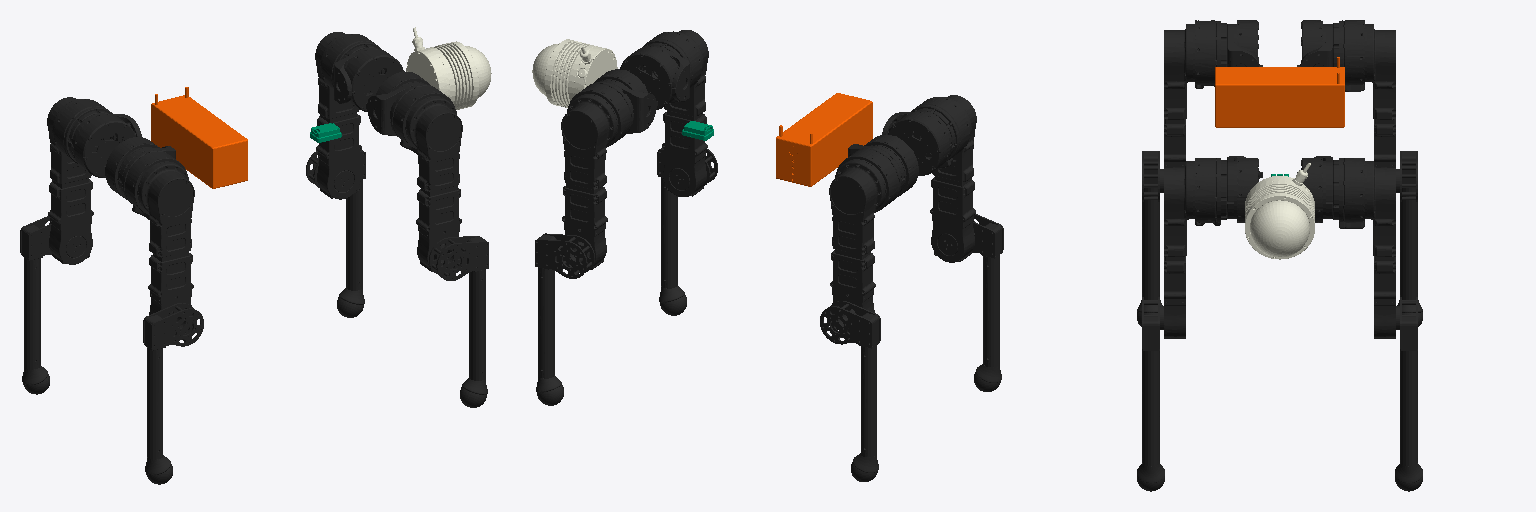
--- Facts derived from the render (not from the file) ---
The picture shows the robot from 3 angles, left to right: view 1: azimuth 30°, elevation 25°; view 2: azimuth 150°, elevation 25°; view 3: azimuth 270°, elevation 25°; orthographic projection.
Model robot with 29 links and 28 joints (12 revolute, 16 fixed), rooted at base, posed all joints at 0.
Visible links, largest first — view 1: RF_THIGH, RH_THIGH, LH_THIGH, battery, LF_THIGH, BP_lidar, LF_HIP, LH_HIP, RF_FOOT, LH_FOOT, RH_FOOT, LF_FOOT (+5 smaller); view 2: LF_THIGH, LH_THIGH, RH_THIGH, battery, RF_THIGH, BP_lidar, RF_HIP, RH_HIP, LF_FOOT, RH_FOOT, LH_FOOT, RF_FOOT (+5 smaller); view 3: battery, LF_THIGH, RF_THIGH, LH_THIGH, RH_THIGH, BP_lidar, LF_FOOT, RF_FOOT, LH_FOOT, RH_FOOT, RF_HIP, LF_HIP (+6 smaller).
Boxes of the visible links, box(x1,y1,x2,y2) form: RF_THIGH: box(390, 84, 462, 271); RH_THIGH: box(122, 150, 194, 335); LH_THIGH: box(47, 97, 112, 264); battery: box(151, 87, 247, 188); LF_THIGH: box(315, 32, 381, 199); BP_lidar: box(406, 27, 491, 109); LF_HIP: box(334, 48, 403, 111); LH_HIP: box(72, 113, 141, 177); RF_FOOT: box(460, 270, 487, 407); LH_FOOT: box(22, 257, 49, 394); RH_FOOT: box(145, 347, 172, 484); LF_FOOT: box(337, 179, 364, 317); LF_THIGH: box(561, 82, 633, 269); LH_THIGH: box(829, 147, 901, 333); RH_THIGH: box(911, 95, 976, 262); battery: box(776, 93, 872, 186); RF_THIGH: box(643, 30, 708, 196); BP_lidar: box(532, 39, 617, 107); RF_HIP: box(620, 46, 689, 109); RH_HIP: box(882, 111, 951, 175); LF_FOOT: box(536, 267, 563, 405); RH_FOOT: box(974, 255, 1001, 391); LH_FOOT: box(851, 345, 878, 481); RF_FOOT: box(659, 177, 686, 315); battery: box(1215, 57, 1344, 127); LF_THIGH: box(1333, 158, 1395, 338); RF_THIGH: box(1164, 158, 1226, 338); LH_THIGH: box(1333, 20, 1395, 167); RH_THIGH: box(1164, 20, 1226, 167); BP_lidar: box(1245, 163, 1314, 259); LF_FOOT: box(1395, 351, 1422, 491); RF_FOOT: box(1137, 351, 1164, 491); LH_FOOT: box(1397, 188, 1422, 326); RH_FOOT: box(1137, 188, 1162, 326); RF_HIP: box(1227, 156, 1262, 222); LF_HIP: box(1297, 156, 1332, 222).
Size in the robot's own frame: 0.69 by 0.406 by 0.5245 metres.
Meshes: 9 distinct files referenced, 19 mesh visuals loaded (8 binary STL); not drawn: 1 (reference not matched to a file when rendering).

robot.urdf — robot:
<?xml version="1.0" encoding="utf-8"?>
<!-- =================================================================================== -->
<!-- |    This document was autogenerated by xacro from robot.xacro                    | -->
<!-- |    EDITING THIS FILE BY HAND IS NOT RECOMMENDED                                 | -->
<!-- =================================================================================== -->
<robot name="robot">
  <!-- <xacro:arg name="camera_visual" default="false"/> -->
  <material name="black">
    <color rgba="0.0 0.0 0.0 1.0"/>
  </material>
  <material name="blue">
    <color rgba="0.0 0.0 0.8 1.0"/>
  </material>
  <material name="green">
    <color rgba="0.0 0.8 0.0 1.0"/>
  </material>
  <material name="grey">
    <color rgba="0.2 0.2 0.2 1.0"/>
  </material>
  <material name="grey_alpha">
    <color rgba="0.2 0.2 0.2 0.5"/>
  </material>
  <material name="silver">
    <color rgba="0.913725490196 0.913725490196 0.847058823529 1.0"/>
  </material>
  <material name="orange">
    <color rgba="1.0 0.423529411765 0.0392156862745 1.0"/>
  </material>
  <material name="orange_alpha">
    <color rgba="1.0 0.423529411765 0.0392156862745 0.85"/>
  </material>
  <material name="brown">
    <color rgba="0.870588235294 0.811764705882 0.764705882353 1.0"/>
  </material>
  <material name="red">
    <color rgba="0.8 0.0 0.0 1.0"/>
  </material>
  <material name="white">
    <color rgba="1.0 1.0 1.0 1.0"/>
  </material>
  <!-- ros_control plugin -->
  <gazebo>
    <plugin filename="liblegged_hw_sim.so" name="gazebo_ros_control">
      <robotNamespace>/</robotNamespace>
      <robotParam>legged_robot_description</robotParam>
      <robotSimType>legged_gazebo/QuadHWSim</robotSimType>
    </plugin>
  </gazebo>
  <gazebo>
    <plugin filename="libgazebo_ros_p3d.so" name="p3d_base_controller">
      <alwaysOn>true</alwaysOn>
      <updateRate>1000.0</updateRate>
      <bodyName>base</bodyName>
      <topicName>ground_truth/state</topicName>
      <gaussianNoise>0</gaussianNoise>
      <frameName>world</frameName>
      <xyzOffsets>0 0 0</xyzOffsets>
      <rpyOffsets>0 0 0</rpyOffsets>
    </plugin>
  </gazebo>
  <gazebo reference="base">
    <maxVel>100.</maxVel>
    <material>Gazebo/Grey</material>
    <kp>10000.</kp>
    <kd>0.</kd>
  </gazebo>
  <!-- <gazebo reference="stick_link">
        <mu1>0.2</mu1>
        <mu2>0.2</mu2>
        <material>Gazebo/White</material>
    </gazebo> -->
  <!-- LF leg -->
  <gazebo reference="LF_HIP">
    <mu1>0.2</mu1>
    <mu2>0.2</mu2>
    <material>Gazebo/DarkGrey</material>
  </gazebo>
  <gazebo reference="LF_THIGH">
    <mu1>0.2</mu1>
    <mu2>0.2</mu2>
    <self_collide>1</self_collide>
    <material>Gazebo/DarkGrey</material>
    <kp value="1000000.0"/>
    <kd value="1.0"/>
  </gazebo>
  <gazebo reference="LF_SHANK">
    <mu1>0.2</mu1>
    <mu2>0.2</mu2>
    <self_collide>1</self_collide>
    <material>Gazebo/Orange</material>
  </gazebo>
  <gazebo reference="LF_FOOT">
    <mu1>0.6</mu1>
    <mu2>0.6</mu2>
    <self_collide>1</self_collide>
    <material>Gazebo/DarkGrey</material>
    <kp value="1000000.0"/>
    <kd value="100.0"/>
  </gazebo>
  <!-- RF leg -->
  <gazebo reference="RF_HIP">
    <mu1>0.2</mu1>
    <mu2>0.2</mu2>
    <material>Gazebo/DarkGrey</material>
  </gazebo>
  <gazebo reference="RF_THIGH">
    <mu1>0.2</mu1>
    <mu2>0.2</mu2>
    <self_collide>1</self_collide>
    <material>Gazebo/DarkGrey</material>
    <kp value="1000000.0"/>
    <kd value="1.0"/>
  </gazebo>
  <gazebo reference="RF_SHANK">
    <mu1>0.2</mu1>
    <mu2>0.2</mu2>
    <self_collide>1</self_collide>
    <material>Gazebo/Orange</material>
  </gazebo>
  <gazebo reference="RF_FOOT">
    <mu1>0.6</mu1>
    <mu2>0.6</mu2>
    <self_collide>1</self_collide>
    <material>Gazebo/DarkGrey</material>
    <kp value="1000000.0"/>
    <kd value="100.0"/>
  </gazebo>
  <!-- LH leg -->
  <gazebo reference="LH_HIP">
    <mu1>0.2</mu1>
    <mu2>0.2</mu2>
    <material>Gazebo/DarkGrey</material>
  </gazebo>
  <gazebo reference="LH_THIGH">
    <mu1>0.2</mu1>
    <mu2>0.2</mu2>
    <self_collide>1</self_collide>
    <material>Gazebo/DarkGrey</material>
    <kp value="1000000.0"/>
    <kd value="1.0"/>
  </gazebo>
  <gazebo reference="LH_SHANK">
    <mu1>0.2</mu1>
    <mu2>0.2</mu2>
    <self_collide>1</self_collide>
    <material>Gazebo/Orange</material>
  </gazebo>
  <gazebo reference="LH_FOOT">
    <mu1>0.6</mu1>
    <mu2>0.6</mu2>
    <self_collide>1</self_collide>
    <material>Gazebo/DarkGrey</material>
    <kp value="1000000.0"/>
    <kd value="100.0"/>
  </gazebo>
  <!-- RH leg -->
  <gazebo reference="RH_HIP">
    <mu1>0.2</mu1>
    <mu2>0.2</mu2>
    <material>Gazebo/DarkGrey</material>
  </gazebo>
  <gazebo reference="RH_THIGH">
    <mu1>0.2</mu1>
    <mu2>0.2</mu2>
    <self_collide>1</self_collide>
    <material>Gazebo/DarkGrey</material>
    <kp value="1000000.0"/>
    <kd value="1.0"/>
  </gazebo>
  <gazebo reference="RH_SHANK">
    <mu1>0.2</mu1>
    <mu2>0.2</mu2>
    <self_collide>1</self_collide>
    <material>Gazebo/Orange</material>
  </gazebo>
  <gazebo reference="RH_FOOT">
    <mu1>0.6</mu1>
    <mu2>0.6</mu2>
    <self_collide>1</self_collide>
    <material>Gazebo/DarkGrey</material>
    <kp value="1000000.0"/>
    <kd value="100.0"/>
  </gazebo>
  <!-- <gazebo reference="camera_rgb_frame">
    <sensor type="depth" name="realsense_R200">
      <always_on>true</always_on>
      <visualize>$(arg camera_visual)</visualize>
      <camera>
          <horizontal_fov>1.3439</horizontal_fov>
          <image>
              <width>1920</width>
              <height>1080</height>
              <format>R8G8B8</format>
          </image>
          <depth_camera></depth_camera>
          <clip>
              <near>0.03</near>
              <far>100</far>
          </clip>
      </camera>
      <plugin name="camera_controller" filename="libgazebo_ros_openni_kinect.so">
        <baseline>0.2</baseline>
        <alwaysOn>true</alwaysOn>
        <updateRate>30.0</updateRate>
        <cameraName>camera</cameraName>
        <frameName>camera_rgb_optical_frame</frameName>
        <imageTopicName>rgb/image_raw</imageTopicName>
        <depthImageTopicName>depth/image_raw</depthImageTopicName>
        <pointCloudTopicName>depth/points</pointCloudTopicName>
        <cameraInfoTopicName>rgb/camera_info</cameraInfoTopicName>
        <depthImageCameraInfoTopicName>depth/camera_info</depthImageCameraInfoTopicName>
        <pointCloudCutoff>0.4</pointCloudCutoff>
            <hackBaseline>0.07</hackBaseline>
            <distortionK1>0.0</distortionK1>
            <distortionK2>0.0</distortionK2>
            <distortionK3>0.0</distortionK3>
            <distortionT1>0.0</distortionT1>
            <distortionT2>0.0</distortionT2>
        <CxPrime>0.0</CxPrime>
        <Cx>0.0</Cx>
        <Cy>0.0</Cy>
        <focalLength>0</focalLength>
        <hackBaseline>0</hackBaseline>
      </plugin>
    </sensor>
  </gazebo> -->
  <link name="base">
    <visual>
      <origin rpy="0 0 0" xyz="0 0 0"/>
      <geometry>
        <mesh filename="package://freeAny_description/meshes/base.STL" scale="1 1 1"/>
      </geometry>
      <material name="orange"/>
    </visual>
    <collision>
      <origin rpy="0 0 0" xyz="0 0 0"/>
      <geometry>
        <box size="0.3504 0.18 0.14"/>
      </geometry>
    </collision>
    <inertial>
      <origin rpy="0 0 0" xyz="0.0036585 0.0 -0.0077332"/>
      <mass value="4.71"/>
      <inertia ixx="0.02327755" ixy="3.3511e-05" ixz="0.000186233" iyy="0.126017746" iyz="-1.4056e-05" izz="0.133811568"/>
    </inertial>
  </link>
  <joint name="base_to_battery" type="fixed">
    <origin rpy="0 0 0" xyz="-0.0945 0 -0.006"/>
    <parent link="base"/>
    <child link="battery"/>
    <axis xyz="0 0 0"/>
  </joint>
  <gazebo reference="base_to_battery">
    <disableFixedJointLumping>true</disableFixedJointLumping>
  </gazebo>
  <link name="battery">
    <inertial>
      <origin rpy="0 0 0" xyz="0 4.0915E-05 3.0102E-05"/>
      <mass value="1.47"/>
      <inertia ixx="0.004712212" ixy="-1.6E-08" ixz="-8.0E-09" iyy="0.001037398" iyz="3.622E-06" izz="0.004615705"/>
    </inertial>
    <visual>
      <origin rpy="0 0 0" xyz="0 0 0"/>
      <geometry>
        <mesh filename="package://freeAny_description/meshes/battery.STL"/>
      </geometry>
      <material name="orange"/>
    </visual>
  </link>
  <!-- Imu is fixed to the base link -->
  <joint name="yesense_imu_joint" type="fixed">
    <origin rpy="0. 0. 0." xyz="0.12095 0 -0.0335"/>
    <parent link="base"/>
    <child link="yesense_imu"/>
  </joint>
  <!-- Imu link -->
  <link name="yesense_imu">
    <inertial>
      <mass value="0.03"/>
      <origin rpy="0 0 0" xyz="0 0 -0.0072335"/>
      <inertia ixx="4.013E-06" ixy="0" ixz="-1.5E-08" iyy="6.158E-06" iyz="-2.0E-09" izz="6.061E-06"/>
    </inertial>
    <visual>
      <origin rpy="0 0 0" xyz="0 0 0"/>
      <geometry>
        <mesh filename="package://freeAny_description/meshes/IMU.STL"/>
      </geometry>
    </visual>
    <material name="orange">
      <color rgba="255 108 10 255"/>
    </material>
  </link>
  <gazebo reference="yesense_imu">
    <material>Gazebo/Orange</material>
  </gazebo>
  <gazebo reference="yesense_imu_joint">
    <disableFixedJointLumping>true</disableFixedJointLumping>
  </gazebo>
  <!-- lidar is fixed to the base link -->
  <joint name="base_to_BP_lidar_joint" type="fixed">
    <origin rpy="-1.5708 1.0472 -1.5708" xyz="0.38227 0 0"/>
    <parent link="base"/>
    <child link="BP_lidar"/>
  </joint>
  <!-- lidar link -->
  <link name="BP_lidar">
    <inertial>
      <mass value="1.0"/>
      <origin rpy="0 0 0" xyz="-0.00092658 3.0E-05 -0.058804"/>
      <inertia ixx="0.005077876" ixy="1.493E-06" ixz="7.8943E-05" iyy="0.005133860" iyz="-2.922E-06" izz="0.001777821"/>
    </inertial>
    <visual>
      <origin rpy="0 0 0" xyz="0 0 0"/>
      <geometry>
        <mesh filename="package://freeAny_description/meshes/BP_lidar.STL"/>
      </geometry>
      <material name="silver"/>
    </visual>
    <!-- <collision> 
                <origin rpy="0 0 0" xyz="0 0 0"/>
                <geometry>
                    <cylinder length="0.06" radius="0.045"/>
                </geometry>
            </collision>
            <collision>
                <origin rpy="0 0 0" xyz="0 0 0"/>
                <geometry>
                    <sphere radius="0.043"/>
                </geometry>
            </collision> -->
  </link>
  <gazebo reference="base_to_BP_lidar_joint">
    <disableFixedJointLumping>true</disableFixedJointLumping>
  </gazebo>
  <!-- lidar is fixed to the base link -->
  <joint name="base_to_realsense_camera_joint" type="fixed">
    <origin rpy="0 0.6 0" xyz="0.4 0 0.15"/>
    <parent link="base"/>
    <child link="realsense_camera"/>
  </joint>
  <!-- lidar link -->
  <link name="realsense_camera">
    <inertial>
      <mass value="0.01"/>
      <origin rpy="0 0 0" xyz="0 0 0"/>
      <inertia ixx="0.0000001" ixy="0" ixz="0" iyy="0.0000001" iyz="0" izz="0.0000001"/>
    </inertial>
    <!-- <visual>
                <origin xyz="0 0 0" rpy="0 0 0"/>
                <geometry>
                <mesh filename="package://turtlebot3_description/meshes/sensors/r200.dae" />
                </geometry>
                <material name = "silver" />
            </visual> -->
    <!-- <collision>
                <origin xyz="0.003 0.065 0.007" rpy="0 0 0"/>
                <geometry>
                    <box size="0.012 0.132 0.020"/>
                </geometry>
            </collision> -->
  </link>
  <joint name="camera_rgb_joint" type="fixed">
    <origin rpy="0 0 0" xyz="0.005 0.018 0.013"/>
    <parent link="realsense_camera"/>
    <child link="camera_rgb_frame"/>
  </joint>
  <link name="camera_rgb_frame">
    <inertial>
      <mass value="0.01"/>
      <origin rpy="0 0 0" xyz="0 0 0"/>
      <inertia ixx="0.0000001" ixy="0" ixz="0" iyy="0.0000001" iyz="0" izz="0.0000001"/>
    </inertial>
  </link>
  <joint name="camera_rgb_optical_joint" type="fixed">
    <origin rpy="-1.57 0 -1.57" xyz="0 0 0"/>
    <parent link="camera_rgb_frame"/>
    <child link="camera_rgb_optical_frame"/>
  </joint>
  <link name="camera_rgb_optical_frame"/>
  <joint name="camera_depth_joint" type="fixed">
    <origin rpy="0 0 0" xyz="0.005 0.028 0.013"/>
    <parent link="realsense_camera"/>
    <child link="camera_depth_frame"/>
  </joint>
  <link name="camera_depth_frame"/>
  <joint name="camera_depth_optical_joint" type="fixed">
    <origin rpy="-1.57 0 -1.57" xyz="0 0 0"/>
    <parent link="camera_depth_frame"/>
    <child link="camera_depth_optical_frame"/>
  </joint>
  <link name="camera_depth_optical_frame"/>
  <gazebo reference="base_to_realsense_camera_joint">
    <disableFixedJointLumping>true</disableFixedJointLumping>
  </gazebo>
  <gazebo reference="camera_rgb_frame">
    <sensor name="realsense_R200" type="depth">
      <always_on>true</always_on>
      <visualize>false</visualize>
      <camera>
        <horizontal_fov>1.3439</horizontal_fov>
        <image>
          <width>1920</width>
          <height>1080</height>
          <format>R8G8B8</format>
        </image>
        <depth_camera/>
        <clip>
          <near>0.03</near>
          <far>100</far>
        </clip>
      </camera>
      <plugin filename="libgazebo_ros_openni_kinect.so" name="camera_controller">
        <baseline>0.2</baseline>
        <alwaysOn>true</alwaysOn>
        <updateRate>30.0</updateRate>
        <cameraName>camera</cameraName>
        <frameName>camera_rgb_optical_frame</frameName>
        <imageTopicName>rgb/image_raw</imageTopicName>
        <depthImageTopicName>depth/image_raw</depthImageTopicName>
        <pointCloudTopicName>depth/points</pointCloudTopicName>
        <cameraInfoTopicName>rgb/camera_info</cameraInfoTopicName>
        <depthImageCameraInfoTopicName>depth/camera_info</depthImageCameraInfoTopicName>
        <pointCloudCutoff>0.4</pointCloudCutoff>
        <hackBaseline>0.07</hackBaseline>
        <distortionK1>0.0</distortionK1>
        <distortionK2>0.0</distortionK2>
        <distortionK3>0.0</distortionK3>
        <distortionT1>0.0</distortionT1>
        <distortionT2>0.0</distortionT2>
        <CxPrime>0.0</CxPrime>
        <Cx>0.0</Cx>
        <Cy>0.0</Cy>
        <focalLength>0</focalLength>
        <hackBaseline>0</hackBaseline>
      </plugin>
    </sensor>
  </gazebo>
  <!-- lr_val = 1(left)/-1(right) fh_val = 1(front)/-1(hind) -->
  <!-- <xacro:macro name="leg" params="prefix lr_val left_right fh_val front_hind *origin"> -->
  <joint name="LF_HAA" type="revolute">
    <origin rpy="0 0 0" xyz="0.1756 0.055 0"/>
    <parent link="base"/>
    <child link="LF_HIP"/>
    <axis xyz="1 0 0"/>
    <dynamics damping="0" friction="0"/>
    <limit effort="33.5" lower="-0.802851455917" upper="0.802851455917" velocity="21"/>
  </joint>
  <link name="LF_HIP">
    <visual>
      <origin rpy="0 0 0" xyz="0 0 0"/>
      <geometry>
        <mesh filename="package://freeAny_description/meshes/HIP.STL" scale="1 1 1"/>
      </geometry>
      <material name="grey"/>
    </visual>
    <collision>
      <origin rpy="1.57079632679 0 0" xyz="0.0541 0 0"/>
      <geometry>
        <cylinder length="0.04" radius="0.046"/>
      </geometry>
    </collision>
    <inertial>
      <origin rpy="0 0 0" xyz="0.042659 0.0034843 -0.00035303"/>
      <mass value="0.715"/>
      <inertia ixx="0.000546211" ixy="0.000114344" ixz="-1.0737e-05" iyy="0.002324487" iyz="3.2554e-05" izz="0.002086762"/>
    </inertial>
  </link>
  <joint name="LF_HIPFix" type="fixed">
    <origin rpy="0 0 0" xyz="0.08 0.04 0"/>
    <parent link="LF_HIP"/>
    <child link="LF_HIPFixed"/>
  </joint>
  <link name="LF_HIPFixed">
    <!-- <visual>
                <geometry>
                    <sphere radius="0.05"/>
                </geometry>
                <material name="red"/>
            </visual> -->
    <inertial>
      <origin rpy="0 0 0" xyz="0 0 0"/>
      <mass value="0.000001"/>
      <inertia ixx="0.00000001" ixy="0" ixz="0" iyy="0.00000001" iyz="0" izz="0.00000001"/>
    </inertial>
  </link>
  <joint name="LF_HFE" type="revolute">
    <origin rpy="0 0 1.57079632679" xyz="0.0541 0.09355 0"/>
    <parent link="LF_HIP"/>
    <child link="LF_THIGH"/>
    <axis xyz="1 0 0"/>
    <dynamics damping="0" friction="0"/>
    <limit effort="33.5" lower="-1.3962634016" upper="4.18879020479" velocity="21"/>
  </joint>
  <link name="LF_THIGH">
    <visual>
      <origin rpy="0 0 0" xyz="0 0 0"/>
      <geometry>
        <mesh filename="package://freeAny_description/meshes/thigh.STL" scale="1 1 1"/>
      </geometry>
      <material name="grey_alpha"/>
    </visual>
    <collision>
      <origin rpy="0 1.57079632679 0" xyz="-0.01 0 0"/>
      <geometry>
        <cylinder length="0.041" radius="0.032"/>
      </geometry>
    </collision>
    <collision>
      <origin rpy="0 0 0" xyz="0 0 -0.1"/>
      <geometry>
        <box size="0.032 0.048 0.2"/>
      </geometry>
    </collision>
    <inertial>
      <origin rpy="0 0 0" xyz="-0.018971 -0.0001 -0.072708"/>
      <mass value="1.15"/>
      <inertia ixx="0.014724523" ixy="5.677e-06" ixz="6.2711e-05" iyy="0.015466921" iyz="7.296e-06" izz="0.001822592"/>
    </inertial>
  </link>
  <joint name="LF_KFE" type="revolute">
    <origin rpy="0 0 0" xyz="0.034 0 -0.2"/>
    <parent link="LF_THIGH"/>
    <child link="LF_SHANK"/>
    <axis xyz="1 0 0"/>
    <dynamics damping="0" friction="0"/>
    <limit effort="52" lower="-3.14159265359" upper="3.14159265359" velocity="13"/>
  </joint>
  <link name="LF_SHANK">
    <visual>
      <origin rpy="0 0 0" xyz="0 0 0"/>
      <geometry>
        <mesh filename="package://freeAny_description/meshes/shank_Left.STL" scale="1 1 1"/>
      </geometry>
      <material name="grey"/>
    </visual>
    <collision>
      <origin rpy="0 0 0" xyz="0 -0.048 0"/>
      <geometry>
        <box size="0.03 0.02 0.045"/>
      </geometry>
    </collision>
    <collision>
      <origin rpy="0 1.57079632679 0" xyz="0 0 0"/>
      <geometry>
        <cylinder length="0.03" radius="0.029"/>
      </geometry>
    </collision>
    <inertial>
      <origin rpy="0 0 0" xyz="-0.000781 -0.029499 -0.004542"/>
      <mass value="0.085"/>
      <inertia ixx="0.000156178" ixy="0.0" ixz="0.0" iyy="3.8653e-05" iyz="1.8611e-05" izz="0.000133207"/>
    </inertial>
  </link>
  <joint name="shank_to_foot_LF" type="fixed">
    <origin rpy="0 0 -1.57079632679" xyz="0 -0.031301 -0.24819"/>
    <parent link="LF_SHANK"/>
    <child link="LF_FOOT"/>
  </joint>
  <link name="LF_FOOT">
    <visual>
      <origin rpy="0 0 0" xyz="0 0 0"/>
      <geometry>
        <mesh filename="package://freeAny_description/meshes/foot.STL" scale="1 1 1"/>
      </geometry>
      <material name="grey_alpha"/>
    </visual>
    <collision>
      <origin rpy="0 0 0" xyz="0.008 0 0.017"/>
      <geometry>
        <sphere radius="0.02"/>
      </geometry>
    </collision>
    <collision>
      <origin rpy="0 0 0" xyz="0.016 0 0.13125"/>
      <geometry>
        <cylinder length="0.21" radius="0.012"/>
      </geometry>
    </collision>
    <inertial>
      <origin rpy="0 0 0" xyz="0.012 0 0.065"/>
      <mass value="0.077"/>
      <inertia ixx="0.00629115" ixy="0.0" ixz="7.2557e-50" iyy="0.000641223" iyz="0" izz="2.3963e-05"/>
    </inertial>
  </link>
  <gazebo reference="shank_to_foot_LF">
    <disableFixedJointLumping>true</disableFixedJointLumping>
  </gazebo>
  <transmission name="LF_HAA_tran">
    <type>transmission_interface/SimpleTransmission</type>
    <joint name="LF_HAA">
      <hardwareInterface>hardware_interface/EffortJointInterface</hardwareInterface>
    </joint>
    <actuator name="LF_HAA_motor">
      <hardwareInterface>hardware_interface/EffortJointInterface</hardwareInterface>
      <mechanicalReduction>1</mechanicalReduction>
    </actuator>
  </transmission>
  <transmission name="LF_Thigh_tran">
    <type>transmission_interface/SimpleTransmission</type>
    <joint name="LF_HFE">
      <hardwareInterface>hardware_interface/EffortJointInterface</hardwareInterface>
    </joint>
    <actuator name="LF_Thigh_motor">
      <hardwareInterface>hardware_interface/EffortJointInterface</hardwareInterface>
      <mechanicalReduction>1</mechanicalReduction>
    </actuator>
  </transmission>
  <transmission name="LF_Knee_tran">
    <type>transmission_interface/SimpleTransmission</type>
    <joint name="LF_KFE">
      <hardwareInterface>hardware_interface/EffortJointInterface</hardwareInterface>
    </joint>
    <actuator name="LF_Knee_motor">
      <hardwareInterface>hardware_interface/EffortJointInterface</hardwareInterface>
      <mechanicalReduction>1</mechanicalReduction>
    </actuator>
  </transmission>
  <joint name="RF_HAA" type="revolute">
    <origin rpy="0 0 0" xyz="0.1756 -0.055 0"/>
    <parent link="base"/>
    <child link="RF_HIP"/>
    <axis xyz="1 0 0"/>
    <dynamics damping="0" friction="0"/>
    <limit effort="33.5" lower="-0.802851455917" upper="0.802851455917" velocity="21"/>
  </joint>
  <link name="RF_HIP">
    <visual>
      <origin rpy="3.14159265359 0 0" xyz="0 0 0"/>
      <geometry>
        <mesh filename="package://freeAny_description/meshes/HIP.STL" scale="1 1 1"/>
      </geometry>
      <material name="grey"/>
    </visual>
    <collision>
      <origin rpy="1.57079632679 0 0" xyz="0.0541 0 0"/>
      <geometry>
        <cylinder length="0.04" radius="0.046"/>
      </geometry>
    </collision>
    <inertial>
      <origin rpy="0 0 0" xyz="0.042659 -0.0034843 -0.00035303"/>
      <mass value="0.715"/>
      <inertia ixx="0.000546211" ixy="-0.000114344" ixz="-1.0737e-05" iyy="0.002324487" iyz="-3.2554e-05" izz="0.002086762"/>
    </inertial>
  </link>
  <joint name="RF_HIPFix" type="fixed">
    <origin rpy="0 0 0" xyz="0.08 -0.04 0"/>
    <parent link="RF_HIP"/>
    <child link="RF_HIPFixed"/>
  </joint>
  <link name="RF_HIPFixed">
    <!-- <visual>
                <geometry>
                    <sphere radius="0.05"/>
                </geometry>
                <material name="red"/>
            </visual> -->
    <inertial>
      <origin rpy="0 0 0" xyz="0 0 0"/>
      <mass value="0.000001"/>
      <inertia ixx="0.00000001" ixy="0" ixz="0" iyy="0.00000001" iyz="0" izz="0.00000001"/>
    </inertial>
  </link>
  <joint name="RF_HFE" type="revolute">
    <origin rpy="0 0 1.57079632679" xyz="0.0541 -0.09355 0"/>
    <parent link="RF_HIP"/>
    <child link="RF_THIGH"/>
    <axis xyz="1 0 0"/>
    <dynamics damping="0" friction="0"/>
    <limit effort="33.5" lower="-4.18879020479" upper="1.3962634016" velocity="21"/>
  </joint>
  <link name="RF_THIGH">
    <visual>
      <origin rpy="0 0 3.14159265359" xyz="0 0 0"/>
      <geometry>
        <mesh filename="package://freeAny_description/meshes/thigh.STL" scale="1 1 1"/>
      </geometry>
      <material name="grey_alpha"/>
    </visual>
    <collision>
      <origin rpy="0 1.57079632679 0" xyz="0.01 0 0"/>
      <geometry>
        <cylinder length="0.041" radius="0.032"/>
      </geometry>
    </collision>
    <collision>
      <origin rpy="0 0 0" xyz="0 0 -0.1"/>
      <geometry>
        <box size="0.032 0.048 0.2"/>
      </geometry>
    </collision>
    <inertial>
      <origin rpy="0 0 0" xyz="0.018971 0.0001 -0.072708"/>
      <mass value="1.15"/>
      <inertia ixx="0.014724523" ixy="5.677e-06" ixz="-6.2711e-05" iyy="0.015466921" iyz="-7.296e-06" izz="0.001822592"/>
    </inertial>
  </link>
  <joint name="RF_KFE" type="revolute">
    <origin rpy="0 0 0" xyz="-0.034 0 -0.2"/>
    <parent link="RF_THIGH"/>
    <child link="RF_SHANK"/>
    <axis xyz="1 0 0"/>
    <dynamics damping="0" friction="0"/>
    <limit effort="52" lower="-3.14159265359" upper="3.14159265359" velocity="13"/>
  </joint>
  <link name="RF_SHANK">
    <visual>
      <origin rpy="0 0 0" xyz="0 0 0"/>
      <geometry>
        <mesh filename="package://freeAny_description/meshes/shank_Right.STL" scale="1 1 1"/>
      </geometry>
      <material name="grey"/>
    </visual>
    <collision>
      <origin rpy="0 0 0" xyz="0 -0.048 0"/>
      <geometry>
        <box size="0.03 0.02 0.045"/>
      </geometry>
    </collision>
    <collision>
      <origin rpy="0 1.57079632679 0" xyz="0 0 0"/>
      <geometry>
        <cylinder length="0.03" radius="0.029"/>
      </geometry>
    </collision>
    <inertial>
      <origin rpy="0 0 0" xyz="0.000781 -0.029499 -0.004542"/>
      <mass value="0.085"/>
      <inertia ixx="0.000156178" ixy="-0.0" ixz="-0.0" iyy="3.8653e-05" iyz="1.8611e-05" izz="0.000133207"/>
    </inertial>
  </link>
  <joint name="shank_to_foot_RF" type="fixed">
    <origin rpy="0 0 -1.57079632679" xyz="0 -0.031301 -0.24819"/>
    <parent link="RF_SHANK"/>
    <child link="RF_FOOT"/>
  </joint>
  <link name="RF_FOOT">
    <visual>
      <origin rpy="0 0 0" xyz="0 0 0"/>
      <geometry>
        <mesh filename="package://freeAny_description/meshes/foot.STL" scale="1 1 1"/>
      </geometry>
      <material name="grey_alpha"/>
    </visual>
    <collision>
      <origin rpy="0 0 0" xyz="0.008 0 0.017"/>
      <geometry>
        <sphere radius="0.02"/>
      </geometry>
    </collision>
    <collision>
      <origin rpy="0 0 0" xyz="0.016 0 0.13125"/>
      <geometry>
        <cylinder length="0.21" radius="0.012"/>
      </geometry>
    </collision>
    <inertial>
      <origin rpy="0 0 0" xyz="0.012 0 0.065"/>
      <mass value="0.077"/>
      <inertia ixx="0.00629115" ixy="0.0" ixz="7.2557e-50" iyy="0.000641223" iyz="0" izz="2.3963e-05"/>
    </inertial>
  </link>
  <gazebo reference="shank_to_foot_RF">
    <disableFixedJointLumping>true</disableFixedJointLumping>
  </gazebo>
  <transmission name="RF_HAA_tran">
    <type>transmission_interface/SimpleTransmission</type>
    <joint name="RF_HAA">
      <hardwareInterface>hardware_interface/EffortJointInterface</hardwareInterface>
    </joint>
    <actuator name="RF_HAA_motor">
      <hardwareInterface>hardware_interface/EffortJointInterface</hardwareInterface>
      <mechanicalReduction>1</mechanicalReduction>
    </actuator>
  </transmission>
  <transmission name="RF_Thigh_tran">
    <type>transmission_interface/SimpleTransmission</type>
    <joint name="RF_HFE">
      <hardwareInterface>hardware_interface/EffortJointInterface</hardwareInterface>
    </joint>
    <actuator name="RF_Thigh_motor">
      <hardwareInterface>hardware_interface/EffortJointInterface</hardwareInterface>
      <mechanicalReduction>1</mechanicalReduction>
    </actuator>
  </transmission>
  <transmission name="RF_Knee_tran">
    <type>transmission_interface/SimpleTransmission</type>
    <joint name="RF_KFE">
      <hardwareInterface>hardware_interface/EffortJointInterface</hardwareInterface>
    </joint>
    <actuator name="RF_Knee_motor">
      <hardwareInterface>hardware_interface/EffortJointInterface</hardwareInterface>
      <mechanicalReduction>1</mechanicalReduction>
    </actuator>
  </transmission>
  <joint name="LH_HAA" type="revolute">
    <origin rpy="0 0 0" xyz="-0.1756 0.055 0"/>
    <parent link="base"/>
    <child link="LH_HIP"/>
    <axis xyz="1 0 0"/>
    <dynamics damping="0" friction="0"/>
    <limit effort="33.5" lower="-0.802851455917" upper="0.802851455917" velocity="21"/>
  </joint>
  <link name="LH_HIP">
    <visual>
      <origin rpy="0 3.14159265359 0" xyz="0 0 0"/>
      <geometry>
        <mesh filename="package://freeAny_description/meshes/HIP.STL" scale="1 1 1"/>
      </geometry>
      <material name="grey"/>
    </visual>
    <collision>
      <origin rpy="1.57079632679 0 0" xyz="0.0541 0 0"/>
      <geometry>
        <cylinder length="0.04" radius="0.046"/>
      </geometry>
    </collision>
    <inertial>
      <origin rpy="0 0 0" xyz="-0.042659 0.0034843 -0.00035303"/>
      <mass value="0.715"/>
      <inertia ixx="0.000546211" ixy="-0.000114344" ixz="1.0737e-05" iyy="0.002324487" iyz="3.2554e-05" izz="0.002086762"/>
    </inertial>
  </link>
  <joint name="LH_HIPFix" type="fixed">
    <origin rpy="0 0 0" xyz="-0.08 0.04 0"/>
    <parent link="LH_HIP"/>
    <child link="LH_HIPFixed"/>
  </joint>
  <link name="LH_HIPFixed">
    <!-- <visual>
                <geometry>
                    <sphere radius="0.05"/>
                </geometry>
                <material name="red"/>
            </visual> -->
    <inertial>
      <origin rpy="0 0 0" xyz="0 0 0"/>
      <mass value="0.000001"/>
      <inertia ixx="0.00000001" ixy="0" ixz="0" iyy="0.00000001" iyz="0" izz="0.00000001"/>
    </inertial>
  </link>
  <joint name="LH_HFE" type="revolute">
    <origin rpy="0 0 1.57079632679" xyz="-0.0541 0.09355 0"/>
    <parent link="LH_HIP"/>
    <child link="LH_THIGH"/>
    <axis xyz="1 0 0"/>
    <dynamics damping="0" friction="0"/>
    <limit effort="33.5" lower="-1.3962634016" upper="4.18879020479" velocity="21"/>
  </joint>
  <link name="LH_THIGH">
    <visual>
      <origin rpy="0 0 0" xyz="0 0 0"/>
      <geometry>
        <mesh filename="package://freeAny_description/meshes/thigh.STL" scale="1 1 1"/>
      </geometry>
      <material name="grey_alpha"/>
    </visual>
    <collision>
      <origin rpy="0 1.57079632679 0" xyz="-0.01 0 0"/>
      <geometry>
        <cylinder length="0.041" radius="0.032"/>
      </geometry>
    </collision>
    <collision>
      <origin rpy="0 0 0" xyz="0 0 -0.1"/>
      <geometry>
        <box size="0.032 0.048 0.2"/>
      </geometry>
    </collision>
    <inertial>
      <origin rpy="0 0 0" xyz="-0.018971 -0.0001 -0.072708"/>
      <mass value="1.15"/>
      <inertia ixx="0.014724523" ixy="5.677e-06" ixz="6.2711e-05" iyy="0.015466921" iyz="7.296e-06" izz="0.001822592"/>
    </inertial>
  </link>
  <joint name="LH_KFE" type="revolute">
    <origin rpy="0 0 0" xyz="0.034 0 -0.2"/>
    <parent link="LH_THIGH"/>
    <child link="LH_SHANK"/>
    <axis xyz="1 0 0"/>
    <dynamics damping="0" friction="0"/>
    <limit effort="52" lower="-3.14159265359" upper="3.14159265359" velocity="13"/>
  </joint>
  <link name="LH_SHANK">
    <visual>
      <origin rpy="0 0 3.14159265359" xyz="0 0 0"/>
      <geometry>
        <mesh filename="package://freeAny_description/meshes/shank_Right.STL" scale="1 1 1"/>
      </geometry>
      <material name="grey"/>
    </visual>
    <collision>
      <origin rpy="0 0 0" xyz="0 0.048 0"/>
      <geometry>
        <box size="0.03 0.02 0.045"/>
      </geometry>
    </collision>
    <collision>
      <origin rpy="0 1.57079632679 0" xyz="0 0 0"/>
      <geometry>
        <cylinder length="0.03" radius="0.029"/>
      </geometry>
    </collision>
    <inertial>
      <origin rpy="0 0 0" xyz="-0.000781 0.029499 -0.004542"/>
      <mass value="0.085"/>
      <inertia ixx="0.000156178" ixy="-0.0" ixz="0.0" iyy="3.8653e-05" iyz="-1.8611e-05" izz="0.000133207"/>
    </inertial>
  </link>
  <joint name="shank_to_foot_LH" type="fixed">
    <origin rpy="0 0 -1.57079632679" xyz="0 0.031301 -0.24819"/>
    <parent link="LH_SHANK"/>
    <child link="LH_FOOT"/>
  </joint>
  <link name="LH_FOOT">
    <visual>
      <origin rpy="0 0 3.14159265359" xyz="0 0 0"/>
      <geometry>
        <mesh filename="package://freeAny_description/meshes/foot.STL" scale="1 1 1"/>
      </geometry>
      <material name="grey_alpha"/>
    </visual>
    <collision>
      <origin rpy="0 0 0" xyz="-0.008 0 0.017"/>
      <geometry>
        <sphere radius="0.02"/>
      </geometry>
    </collision>
    <collision>
      <origin rpy="0 0 0" xyz="-0.016 0 0.13125"/>
      <geometry>
        <cylinder length="0.21" radius="0.012"/>
      </geometry>
    </collision>
    <inertial>
      <origin rpy="0 0 0" xyz="-0.012 0 0.065"/>
      <mass value="0.077"/>
      <inertia ixx="0.00629115" ixy="-0.0" ixz="-7.2557e-50" iyy="0.000641223" iyz="0" izz="2.3963e-05"/>
    </inertial>
  </link>
  <gazebo reference="shank_to_foot_LH">
    <disableFixedJointLumping>true</disableFixedJointLumping>
  </gazebo>
  <transmission name="LH_HAA_tran">
    <type>transmission_interface/SimpleTransmission</type>
    <joint name="LH_HAA">
      <hardwareInterface>hardware_interface/EffortJointInterface</hardwareInterface>
    </joint>
    <actuator name="LH_HAA_motor">
      <hardwareInterface>hardware_interface/EffortJointInterface</hardwareInterface>
      <mechanicalReduction>1</mechanicalReduction>
    </actuator>
  </transmission>
  <transmission name="LH_Thigh_tran">
    <type>transmission_interface/SimpleTransmission</type>
    <joint name="LH_HFE">
      <hardwareInterface>hardware_interface/EffortJointInterface</hardwareInterface>
    </joint>
    <actuator name="LH_Thigh_motor">
      <hardwareInterface>hardware_interface/EffortJointInterface</hardwareInterface>
      <mechanicalReduction>1</mechanicalReduction>
    </actuator>
  </transmission>
  <transmission name="LH_Knee_tran">
    <type>transmission_interface/SimpleTransmission</type>
    <joint name="LH_KFE">
      <hardwareInterface>hardware_interface/EffortJointInterface</hardwareInterface>
    </joint>
    <actuator name="LH_Knee_motor">
      <hardwareInterface>hardware_interface/EffortJointInterface</hardwareInterface>
      <mechanicalReduction>1</mechanicalReduction>
    </actuator>
  </transmission>
  <joint name="RH_HAA" type="revolute">
    <origin rpy="0 0 0" xyz="-0.1756 -0.055 0"/>
    <parent link="base"/>
    <child link="RH_HIP"/>
    <axis xyz="1 0 0"/>
    <dynamics damping="0" friction="0"/>
    <limit effort="33.5" lower="-0.802851455917" upper="0.802851455917" velocity="21"/>
  </joint>
  <link name="RH_HIP">
    <visual>
      <origin rpy="0 0 3.14159265359" xyz="0 0 0"/>
      <geometry>
        <mesh filename="package://freeAny_description/meshes/HIP.STL" scale="1 1 1"/>
      </geometry>
      <material name="grey"/>
    </visual>
    <collision>
      <origin rpy="1.57079632679 0 0" xyz="0.0541 0 0"/>
      <geometry>
        <cylinder length="0.04" radius="0.046"/>
      </geometry>
    </collision>
    <inertial>
      <origin rpy="0 0 0" xyz="-0.042659 -0.0034843 -0.00035303"/>
      <mass value="0.715"/>
      <inertia ixx="0.000546211" ixy="0.000114344" ixz="1.0737e-05" iyy="0.002324487" iyz="-3.2554e-05" izz="0.002086762"/>
    </inertial>
  </link>
  <joint name="RH_HIPFix" type="fixed">
    <origin rpy="0 0 0" xyz="-0.08 -0.04 0"/>
    <parent link="RH_HIP"/>
    <child link="RH_HIPFixed"/>
  </joint>
  <link name="RH_HIPFixed">
    <!-- <visual>
                <geometry>
                    <sphere radius="0.05"/>
                </geometry>
                <material name="red"/>
            </visual> -->
    <inertial>
      <origin rpy="0 0 0" xyz="0 0 0"/>
      <mass value="0.000001"/>
      <inertia ixx="0.00000001" ixy="0" ixz="0" iyy="0.00000001" iyz="0" izz="0.00000001"/>
    </inertial>
  </link>
  <joint name="RH_HFE" type="revolute">
    <origin rpy="0 0 1.57079632679" xyz="-0.0541 -0.09355 0"/>
    <parent link="RH_HIP"/>
    <child link="RH_THIGH"/>
    <axis xyz="1 0 0"/>
    <dynamics damping="0" friction="0"/>
    <limit effort="33.5" lower="-4.18879020479" upper="1.3962634016" velocity="21"/>
  </joint>
  <link name="RH_THIGH">
    <visual>
      <origin rpy="0 0 3.14159265359" xyz="0 0 0"/>
      <geometry>
        <mesh filename="package://freeAny_description/meshes/thigh.STL" scale="1 1 1"/>
      </geometry>
      <material name="grey_alpha"/>
    </visual>
    <collision>
      <origin rpy="0 1.57079632679 0" xyz="0.01 0 0"/>
      <geometry>
        <cylinder length="0.041" radius="0.032"/>
      </geometry>
    </collision>
    <collision>
      <origin rpy="0 0 0" xyz="0 0 -0.1"/>
      <geometry>
        <box size="0.032 0.048 0.2"/>
      </geometry>
    </collision>
    <inertial>
      <origin rpy="0 0 0" xyz="0.018971 0.0001 -0.072708"/>
      <mass value="1.15"/>
      <inertia ixx="0.014724523" ixy="5.677e-06" ixz="-6.2711e-05" iyy="0.015466921" iyz="-7.296e-06" izz="0.001822592"/>
    </inertial>
  </link>
  <joint name="RH_KFE" type="revolute">
    <origin rpy="0 0 0" xyz="-0.034 0 -0.2"/>
    <parent link="RH_THIGH"/>
    <child link="RH_SHANK"/>
    <axis xyz="1 0 0"/>
    <dynamics damping="0" friction="0"/>
    <limit effort="52" lower="-3.14159265359" upper="3.14159265359" velocity="13"/>
  </joint>
  <link name="RH_SHANK">
    <visual>
      <origin rpy="0 0 3.14159265359" xyz="0 0 0"/>
      <geometry>
        <mesh filename="package://freeAny_description/meshes/shank_Left.STL" scale="1 1 1"/>
      </geometry>
      <material name="grey"/>
    </visual>
    <collision>
      <origin rpy="0 0 0" xyz="0 0.048 0"/>
      <geometry>
        <box size="0.03 0.02 0.045"/>
      </geometry>
    </collision>
    <collision>
      <origin rpy="0 1.57079632679 0" xyz="0 0 0"/>
      <geometry>
        <cylinder length="0.03" radius="0.029"/>
      </geometry>
    </collision>
    <inertial>
      <origin rpy="0 0 0" xyz="0.000781 0.029499 -0.004542"/>
      <mass value="0.085"/>
      <inertia ixx="0.000156178" ixy="0.0" ixz="-0.0" iyy="3.8653e-05" iyz="-1.8611e-05" izz="0.000133207"/>
    </inertial>
  </link>
  <joint name="shank_to_foot_RH" type="fixed">
    <origin rpy="0 0 -1.57079632679" xyz="0 0.031301 -0.24819"/>
    <parent link="RH_SHANK"/>
    <child link="RH_FOOT"/>
  </joint>
  <link name="RH_FOOT">
    <visual>
      <origin rpy="0 0 3.14159265359" xyz="0 0 0"/>
      <geometry>
        <mesh filename="package://freeAny_description/meshes/foot.STL" scale="1 1 1"/>
      </geometry>
      <material name="grey_alpha"/>
    </visual>
    <collision>
      <origin rpy="0 0 0" xyz="-0.008 0 0.017"/>
      <geometry>
        <sphere radius="0.02"/>
      </geometry>
    </collision>
    <collision>
      <origin rpy="0 0 0" xyz="-0.016 0 0.13125"/>
      <geometry>
        <cylinder length="0.21" radius="0.012"/>
      </geometry>
    </collision>
    <inertial>
      <origin rpy="0 0 0" xyz="-0.012 0 0.065"/>
      <mass value="0.077"/>
      <inertia ixx="0.00629115" ixy="-0.0" ixz="-7.2557e-50" iyy="0.000641223" iyz="0" izz="2.3963e-05"/>
    </inertial>
  </link>
  <gazebo reference="shank_to_foot_RH">
    <disableFixedJointLumping>true</disableFixedJointLumping>
  </gazebo>
  <transmission name="RH_HAA_tran">
    <type>transmission_interface/SimpleTransmission</type>
    <joint name="RH_HAA">
      <hardwareInterface>hardware_interface/EffortJointInterface</hardwareInterface>
    </joint>
    <actuator name="RH_HAA_motor">
      <hardwareInterface>hardware_interface/EffortJointInterface</hardwareInterface>
      <mechanicalReduction>1</mechanicalReduction>
    </actuator>
  </transmission>
  <transmission name="RH_Thigh_tran">
    <type>transmission_interface/SimpleTransmission</type>
    <joint name="RH_HFE">
      <hardwareInterface>hardware_interface/EffortJointInterface</hardwareInterface>
    </joint>
    <actuator name="RH_Thigh_motor">
      <hardwareInterface>hardware_interface/EffortJointInterface</hardwareInterface>
      <mechanicalReduction>1</mechanicalReduction>
    </actuator>
  </transmission>
  <transmission name="RH_Knee_tran">
    <type>transmission_interface/SimpleTransmission</type>
    <joint name="RH_KFE">
      <hardwareInterface>hardware_interface/EffortJointInterface</hardwareInterface>
    </joint>
    <actuator name="RH_Knee_motor">
      <hardwareInterface>hardware_interface/EffortJointInterface</hardwareInterface>
      <mechanicalReduction>1</mechanicalReduction>
    </actuator>
  </transmission>
</robot>
